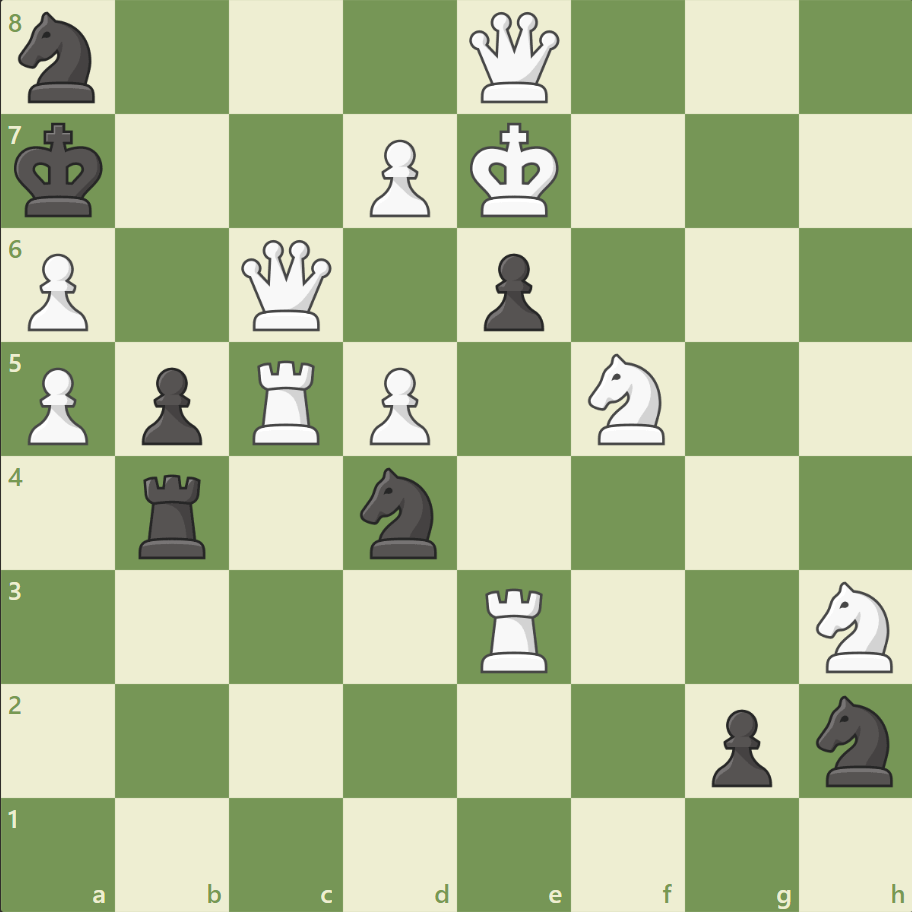K: (465, 117, 565, 225)
N: (579, 348, 676, 450), (806, 575, 903, 677)
P: (20, 246, 95, 337), (20, 359, 95, 450), (361, 132, 435, 223), (361, 359, 435, 450)
Q: (464, 9, 563, 108), (237, 236, 336, 335)
R: (246, 352, 329, 449), (473, 579, 556, 676)
k: (11, 117, 111, 225)
n: (351, 461, 449, 564), (11, 7, 108, 110), (806, 688, 903, 791)
p: (474, 246, 549, 337), (133, 359, 208, 450), (701, 700, 776, 791)
r: (133, 466, 215, 563)
